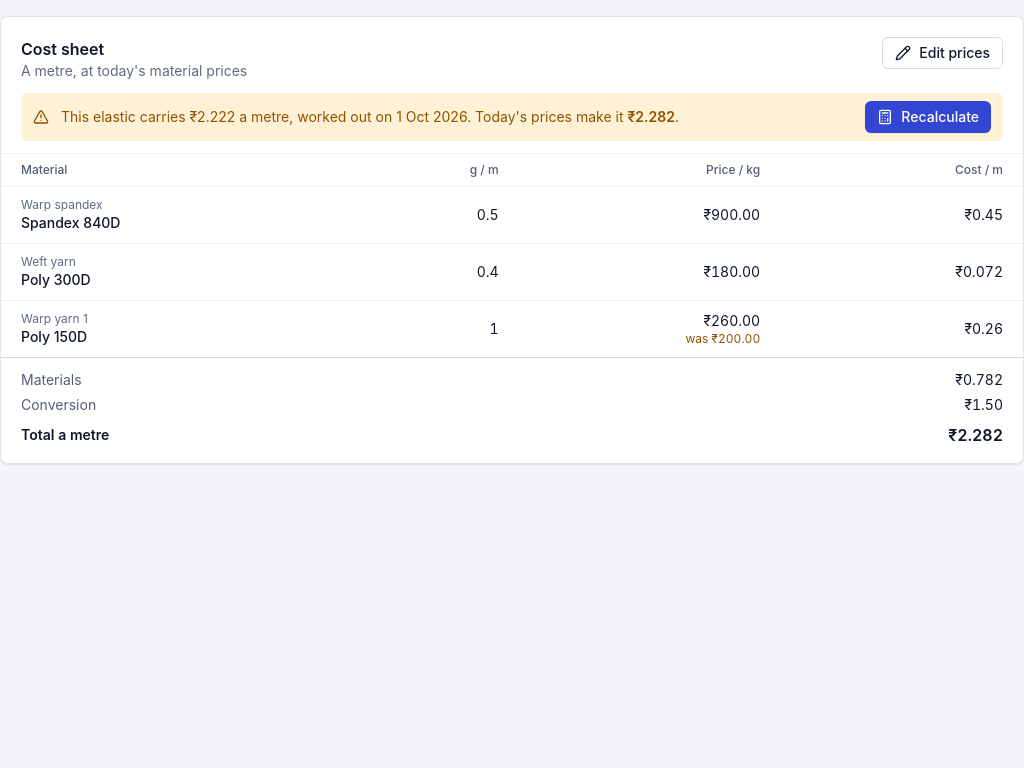
it: editing prices › refuses an empty price, and shows the server's words when it refuses
The image size is (1024, 768).
Click the button "Edit prices": click(943, 53) [882,37,1003,69]
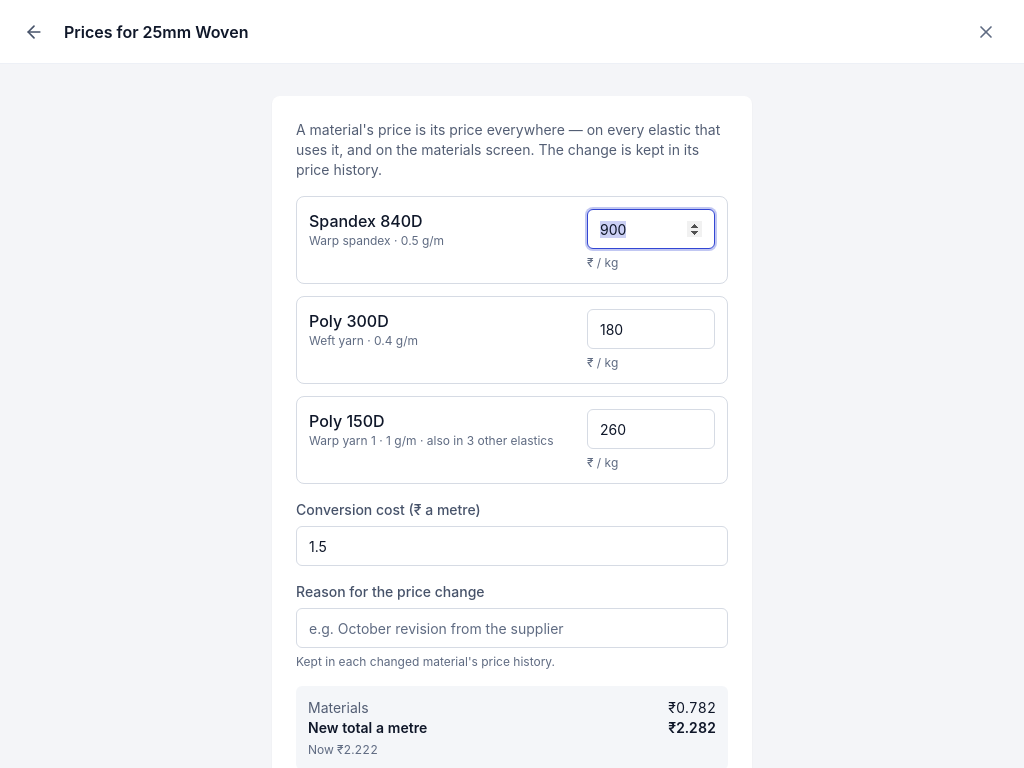
Clear the number field named "Price of Poly 300D, ₹ a kg": (651, 329) [587,309,715,349]
(page scrolled)
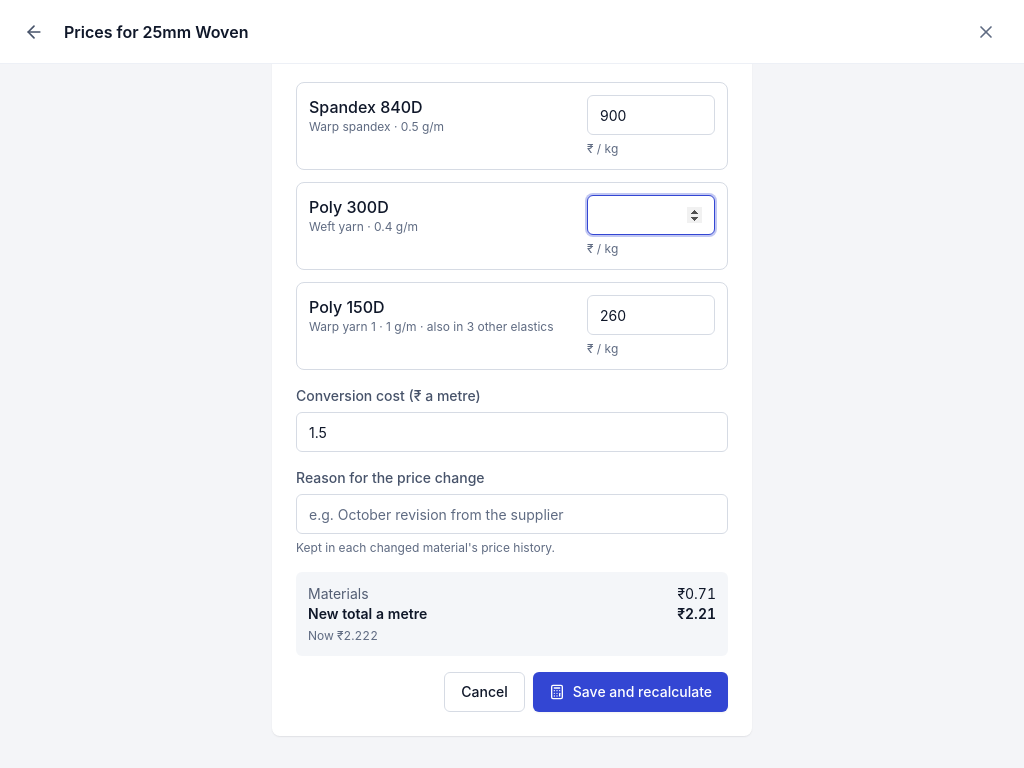
Click the button "Save and recalculate": click(630, 692) [533,672,728,712]
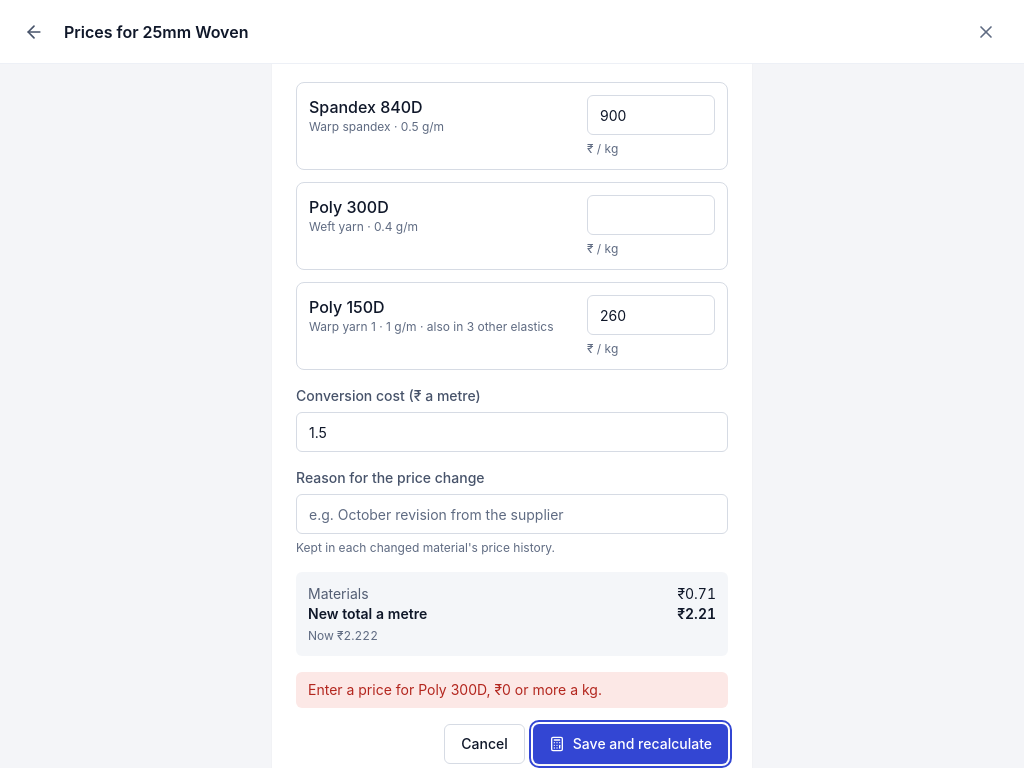
Check: the message "Enter a price for Poly 300D, ₹0 or more a kg." is shown, box [296,672,728,708]
In the number field named "Price of Poly 300D, ₹ a kg": (651, 215) [587,195,715,235], type "180"
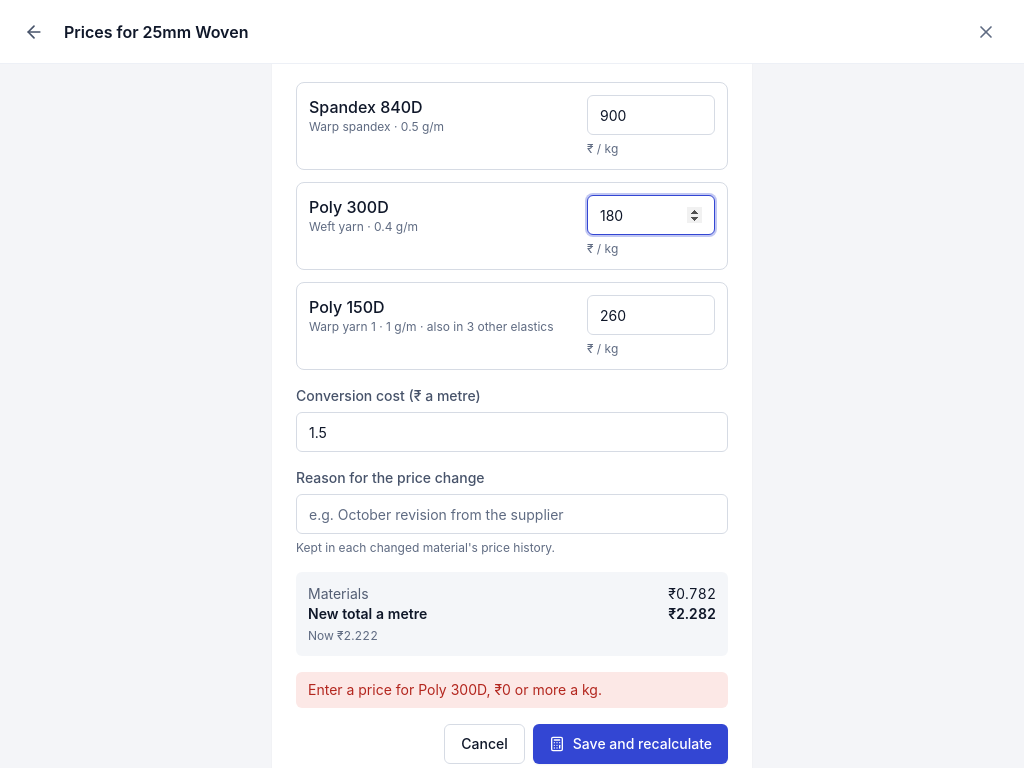
Click the button "Save and recalculate": click(630, 744) [533,724,728,764]
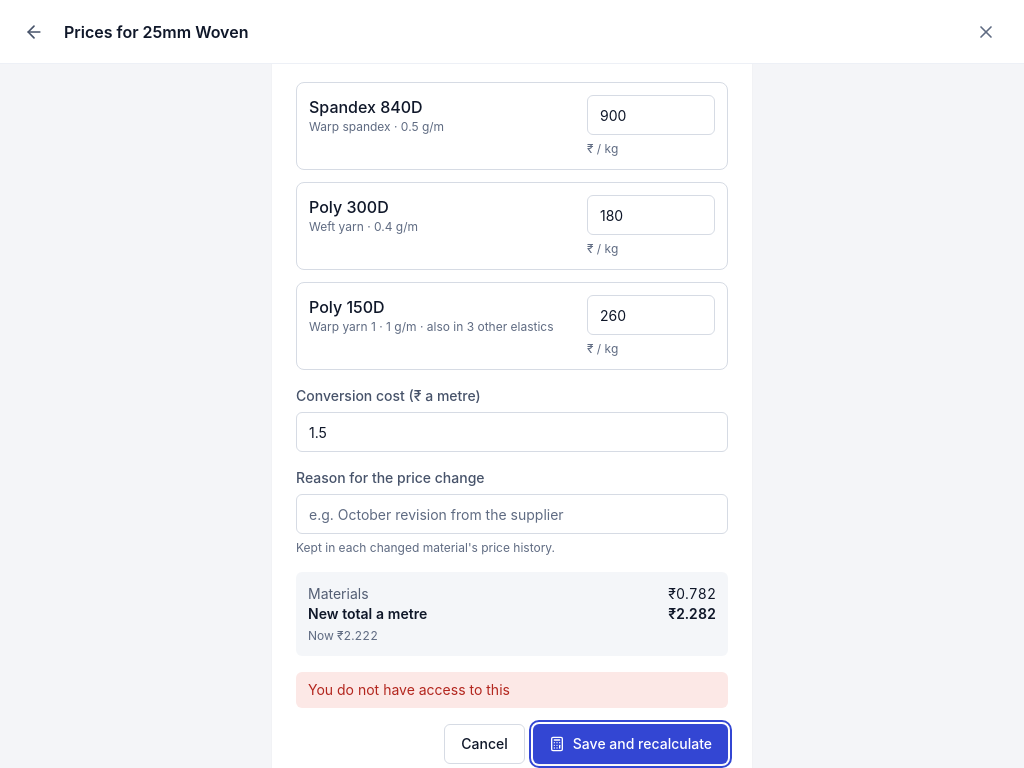
Check: the message "You do not have access to this" is shown, box [296,672,728,708]
